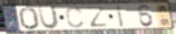6: (137, 4, 155, 28)
C: (65, 6, 86, 29)
I: (116, 5, 126, 29)
O: (18, 7, 41, 31)
U: (37, 5, 61, 31)
Z: (86, 6, 110, 28)
